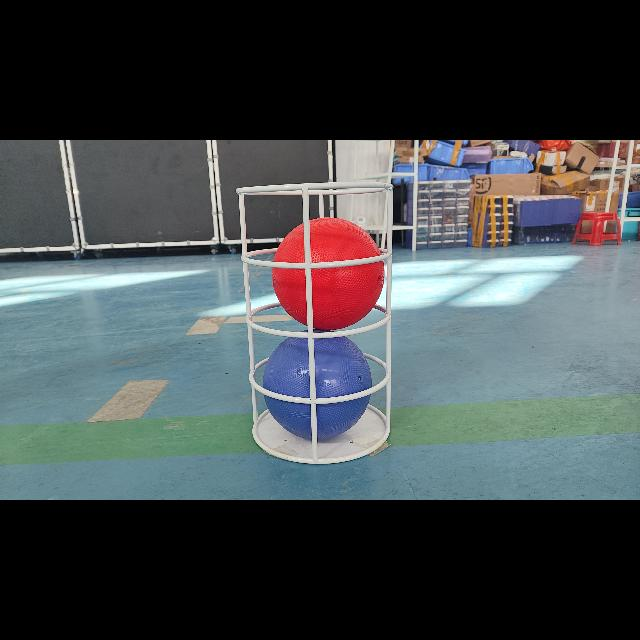B: (263, 329, 371, 441)
R: (272, 219, 383, 331)
S: (226, 174, 400, 473)
